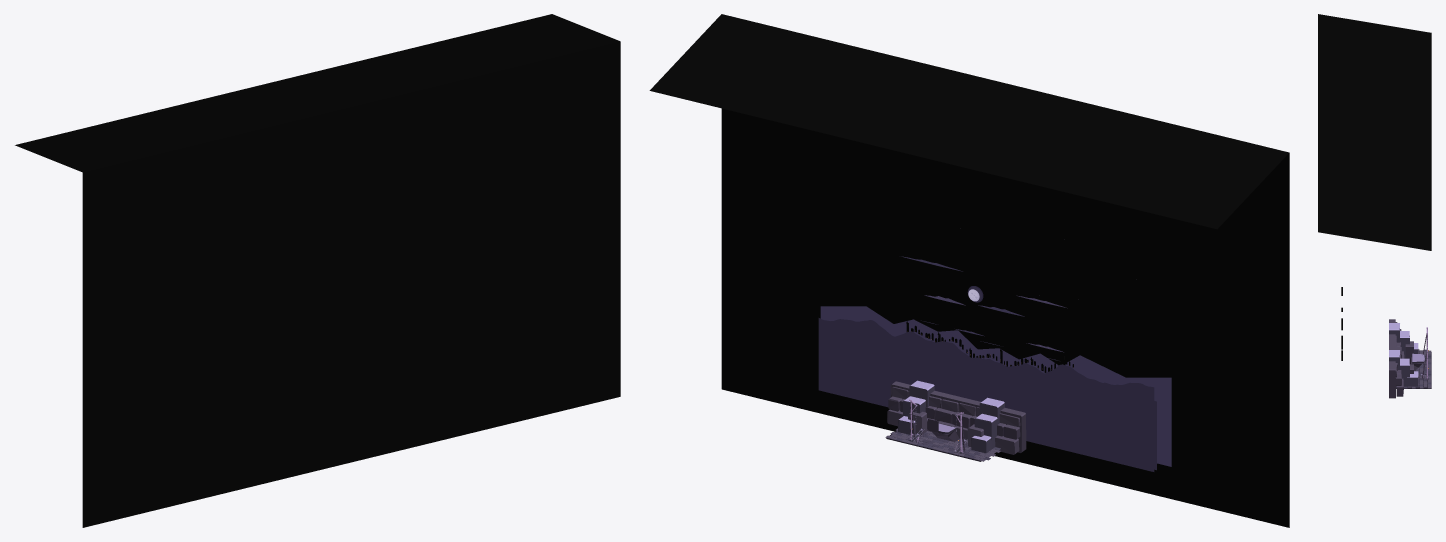
Rendered from StoneCg_v3o.fbx.
3 views of the same model, side by side, from view 1: azimuth 30°, elevation 25°; view 2: azimuth 150°, elevation 25°; view 3: azimuth 270°, elevation 25° (orthographic). The views are drawn at different scales.
Visible parts, largest first — view 1: far_sky, far_sky_overhead; view 2: far_sky, far_sky_overhead, city_foreground_hill, far_ridge_back, floor_pavers, mid_wall_recess; view 3: far_sky_overhead, floor_pavers, mid_wall_recess, mid_shoulder_left_1, mid_shoulder_right_1, mid_shoulder_right_0, mid_shoulder_left_2, mid_shoulder_left_0.
Boxes of the visible parts, x1=… form: far_sky: x1=82, y1=41, x2=620, y2=527; far_sky_overhead: x1=15, y1=14, x2=619, y2=172; far_sky: x1=721, y1=108, x2=1289, y2=527; far_sky_overhead: x1=649, y1=14, x2=1289, y2=229; city_foreground_hill: x1=818, y1=318, x2=1154, y2=471; far_ridge_back: x1=820, y1=306, x2=1171, y2=466; floor_pavers: x1=885, y1=428, x2=1000, y2=461; mid_wall_recess: x1=890, y1=381, x2=1026, y2=452; far_sky_overhead: x1=1318, y1=14, x2=1431, y2=250; floor_pavers: x1=1404, y1=349, x2=1431, y2=388; mid_wall_recess: x1=1389, y1=319, x2=1395, y2=398; mid_shoulder_left_1: x1=1398, y1=358, x2=1409, y2=386; mid_shoulder_right_1: x1=1400, y1=331, x2=1409, y2=358; mid_shoulder_right_0: x1=1389, y1=323, x2=1399, y2=342; mid_shoulder_left_2: x1=1407, y1=371, x2=1418, y2=386; mid_shoulder_left_0: x1=1389, y1=350, x2=1399, y2=388.
Size of the model in its own units: 372 by 235 by 82.03.
